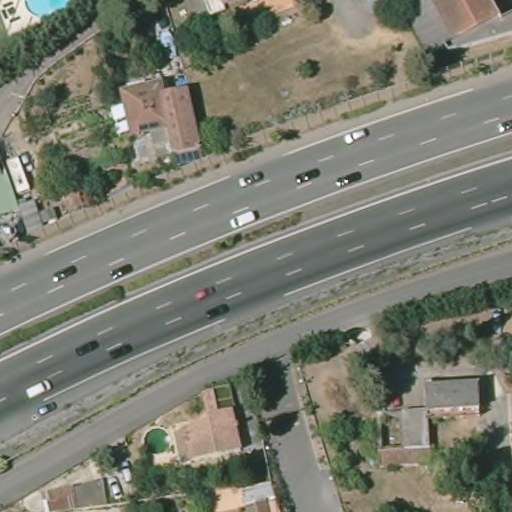pool: (16, 1, 86, 23)
